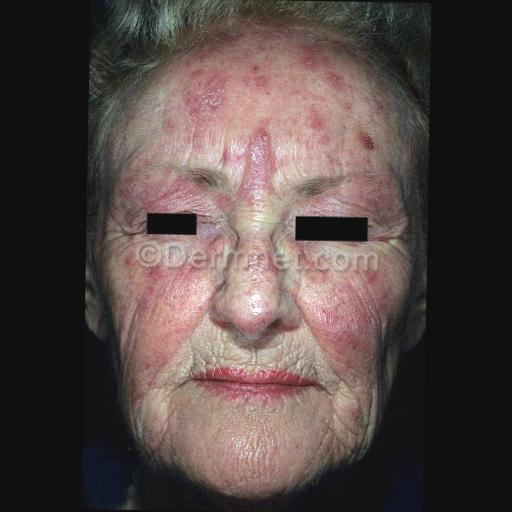Skin_Lesion: (329, 274, 361, 370), (170, 68, 206, 146), (152, 252, 206, 291), (252, 128, 272, 198), (300, 108, 324, 142), (246, 62, 270, 96), (356, 124, 376, 162), (322, 64, 344, 96), (348, 394, 363, 430), (234, 228, 246, 268), (378, 280, 393, 311), (364, 266, 380, 292), (130, 380, 141, 412), (266, 256, 280, 280), (280, 202, 292, 225), (220, 144, 230, 168), (124, 252, 134, 272)
